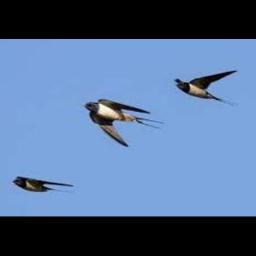Swallow: (84, 99, 166, 146), (175, 70, 238, 106), (13, 176, 75, 193)
